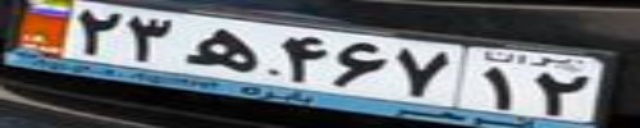1: (481, 64, 512, 110)
2: (531, 70, 588, 115), (79, 8, 119, 56)
3: (127, 15, 170, 63)
4: (279, 34, 326, 83)
6: (331, 40, 388, 87)
7: (395, 46, 449, 98)
he: (184, 27, 259, 72)
